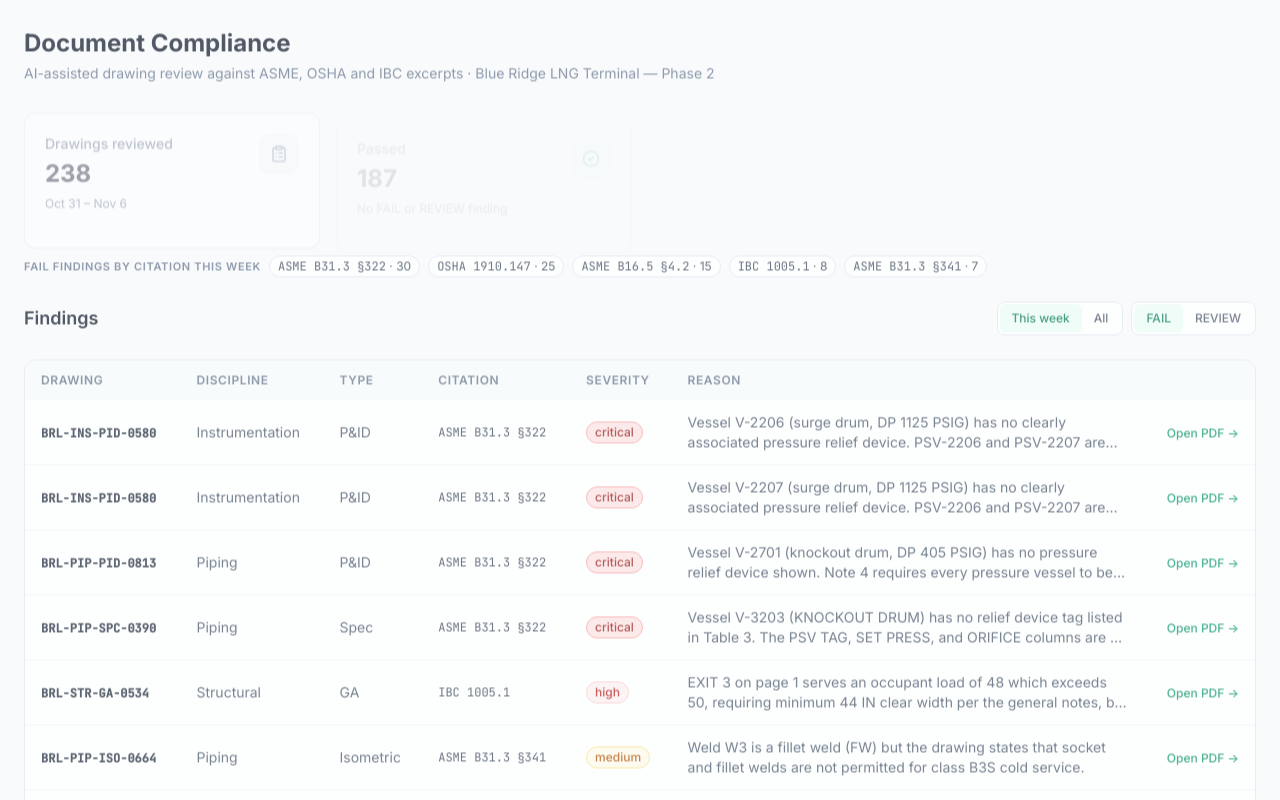
Test: CompliancePage / FindingsTable › row click opens the FindingDrawer with evidence and an honest bbox_source label
Click the text "BRL-STR-GA-0534". click: x=95, y=693
box: 41,685 -> 149,701
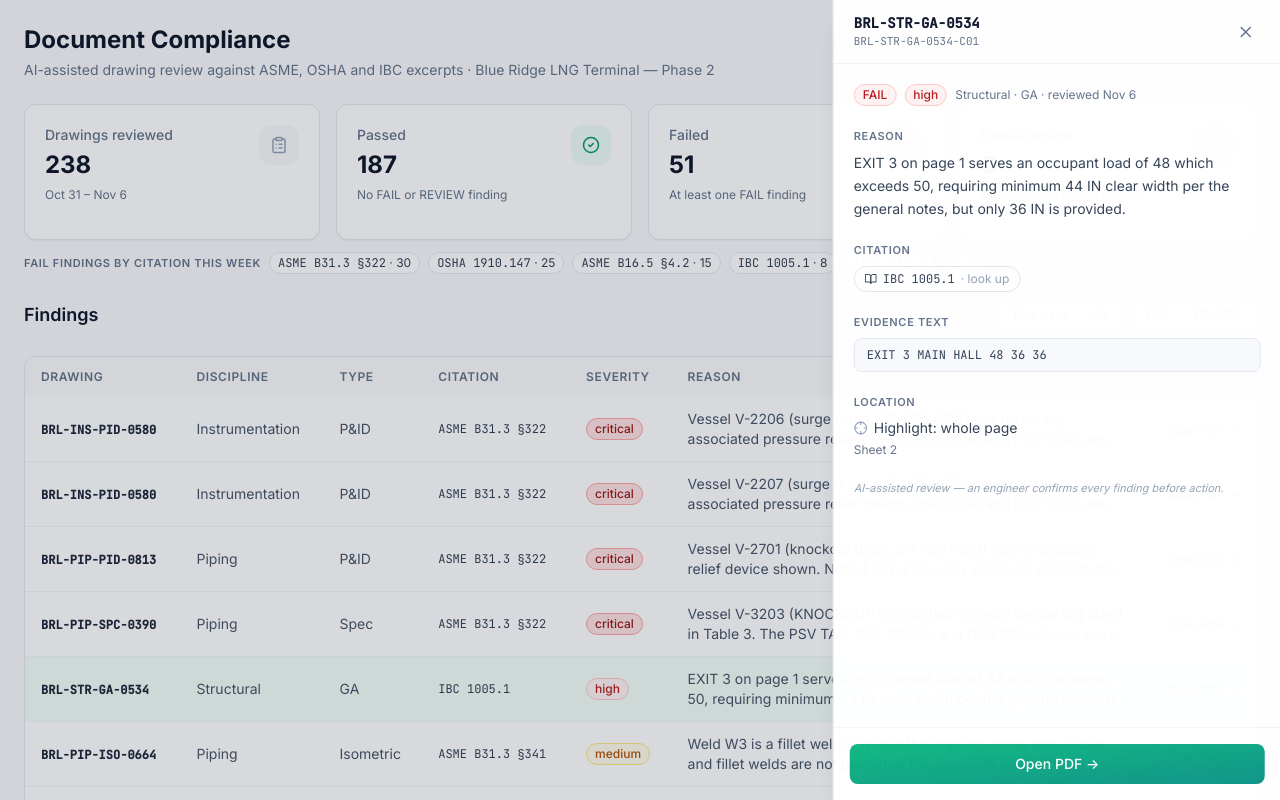
Expected: the dialog shows "EXIT 3 MAIN HALL 48 36 36", 867,347 -> 1047,363
Expected: the dialog shows "Highlight: whole page", 874,419 -> 1018,436
Click the button named "close". click: x=1246, y=32
box: 1231,16 -> 1261,46
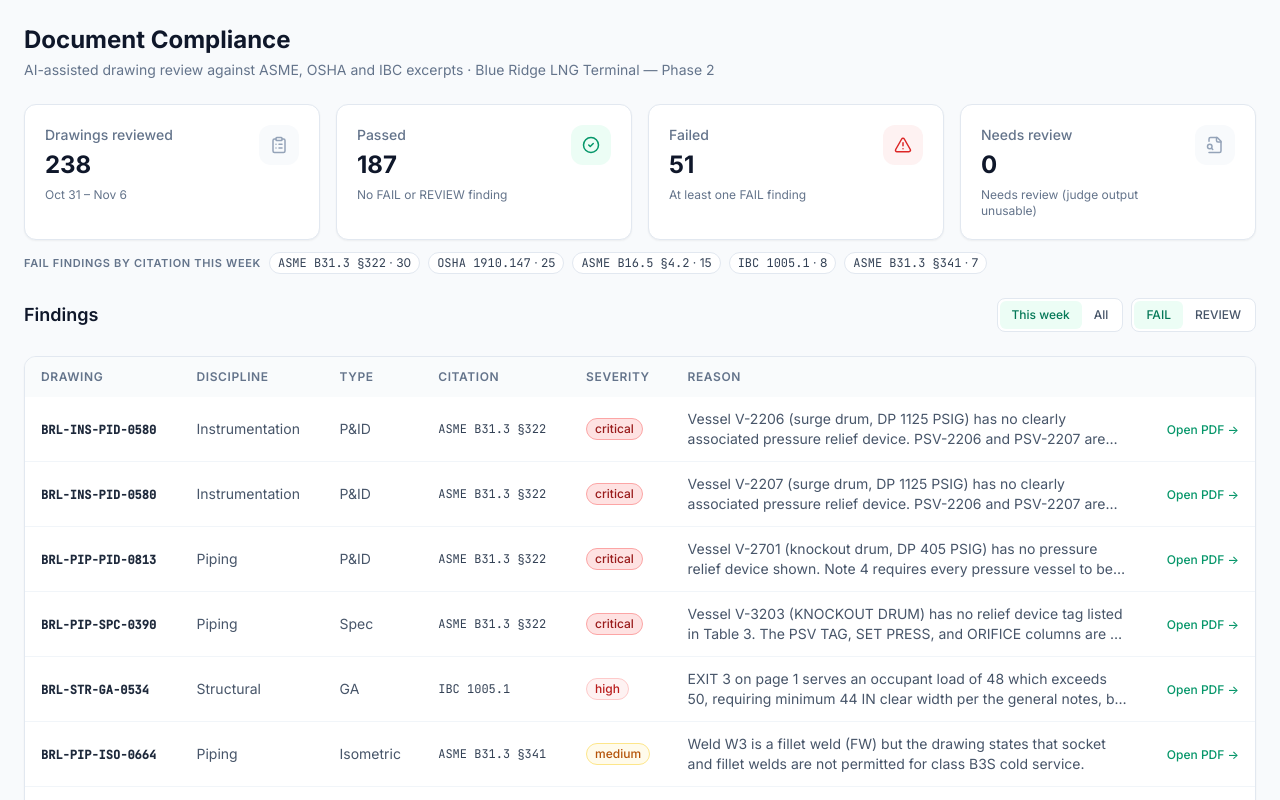
Expected: the dialog is gone
Click the text "BRL-PIP-ISO-0664". click: x=99, y=755
box: 41,747 -> 156,763
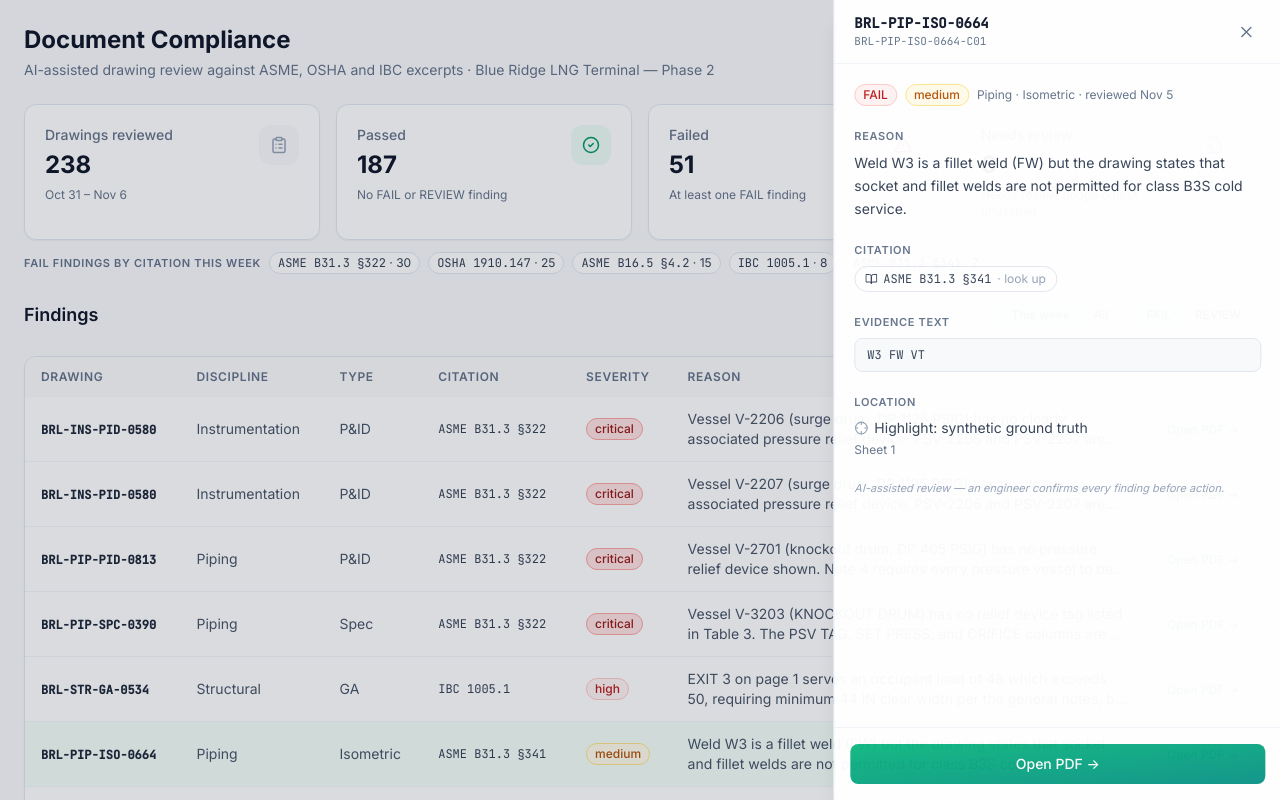
Expected: the dialog shows "Highlight: synthetic ground truth", 874,419 -> 1088,436
Click the button named "close". click: x=1246, y=32
box: 1231,16 -> 1261,46
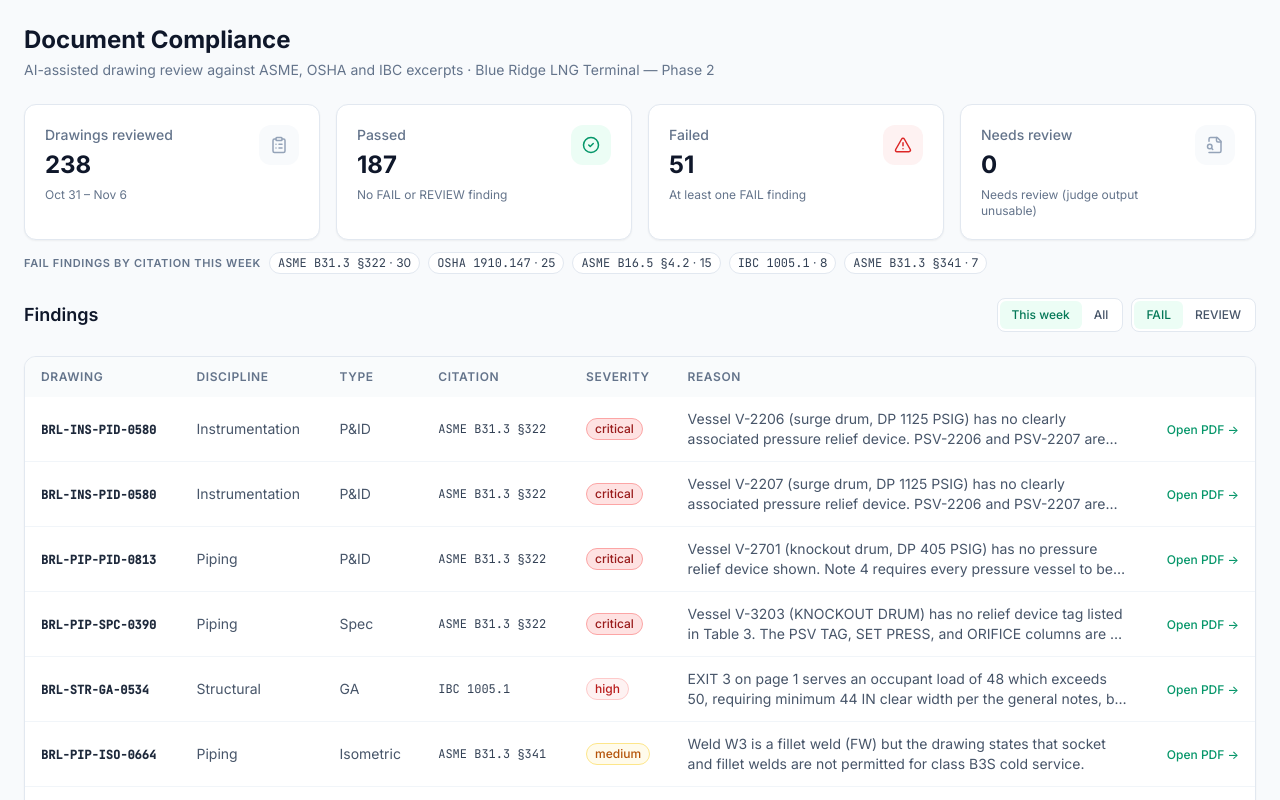
Expected: the dialog is gone
Click the 1st text "BRL-INS-PID-0580". click: x=99, y=430
box: 41,422 -> 156,438
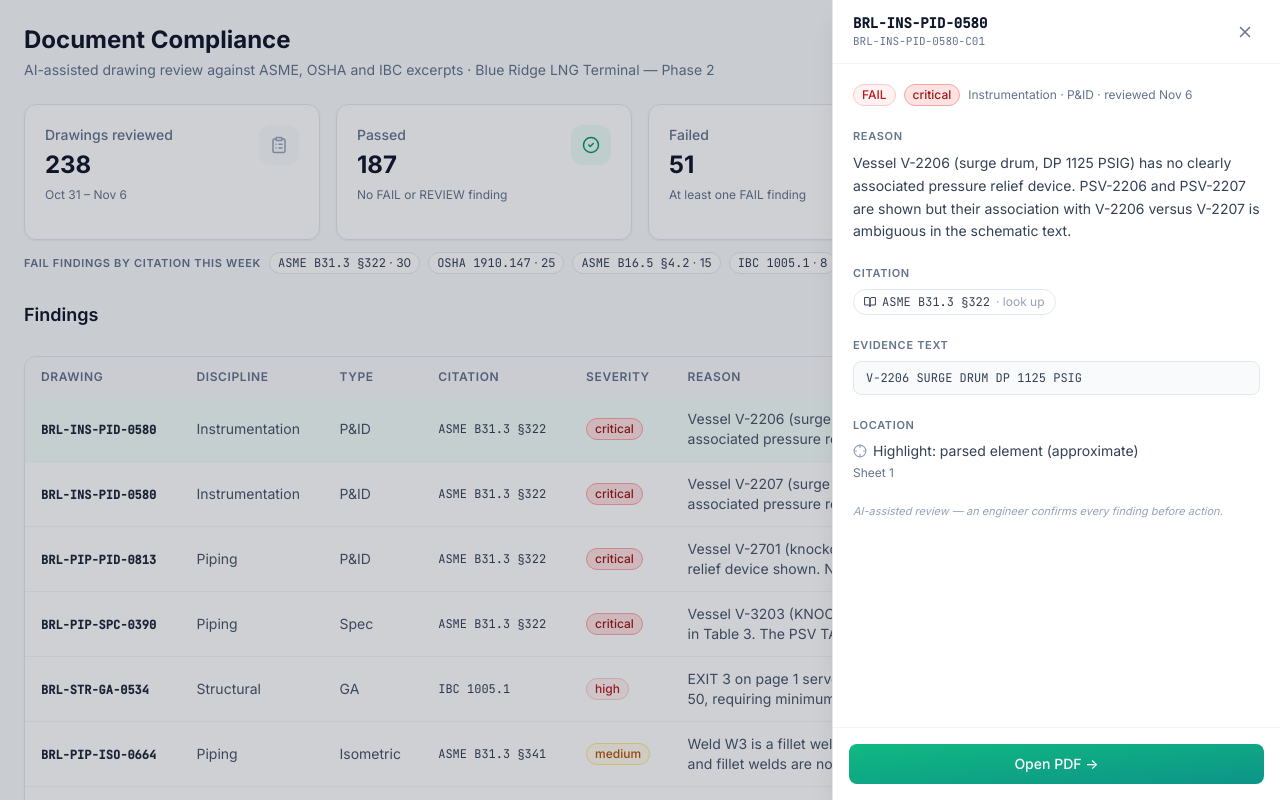
Expected: the dialog shows "Highlight: parsed element (approximate)", 873,442 -> 1139,459
